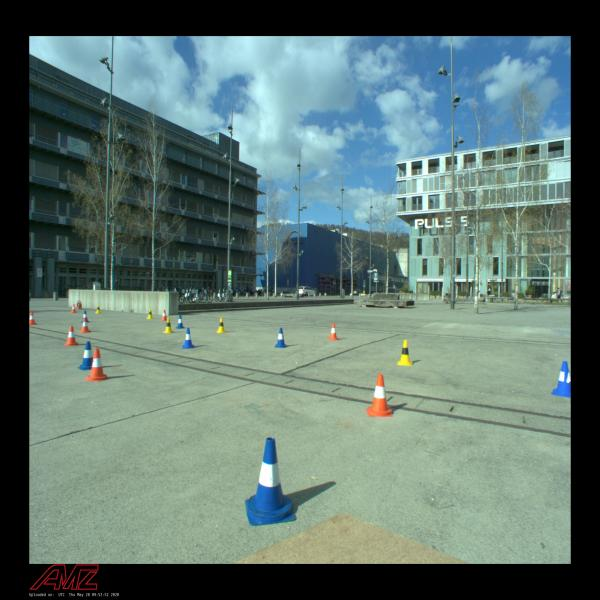blue_cone: (244, 438, 296, 526), (551, 360, 570, 398), (77, 341, 99, 371), (274, 328, 288, 348), (182, 328, 196, 348), (175, 315, 185, 329), (81, 311, 90, 323)
orange_cone: (366, 373, 393, 417), (84, 348, 110, 382), (64, 325, 79, 347), (328, 323, 340, 341), (79, 318, 92, 333), (160, 310, 169, 322), (29, 312, 37, 325), (70, 304, 77, 313)
yellow_cone: (397, 340, 413, 366), (163, 318, 174, 334), (217, 317, 226, 333), (146, 308, 154, 320), (95, 305, 102, 314)
